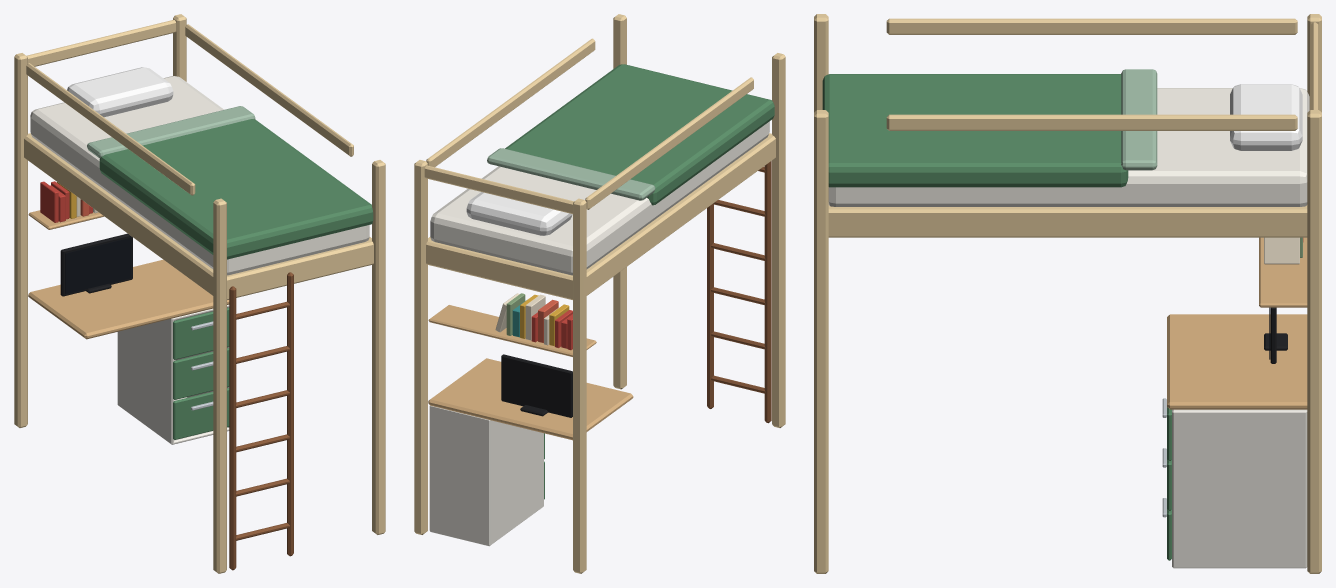
File: desk_bed_combo.glb
3 renders of one model, left to right at view 1: azimuth 30°, elevation 25°; view 2: azimuth 150°, elevation 25°; view 3: azimuth 270°, elevation 25°, orthographic. The views are drawn at different scales.
Parts seen in each view (by area): view 1: desk_bed_combo_Body, desk_bed_combo_Ladder; view 2: desk_bed_combo_Body, desk_bed_combo_Ladder; view 3: desk_bed_combo_Body.
Boxes of the visible parts, left/top/right/bottom form: desk_bed_combo_Body: left=14, top=14, right=385, bottom=573; desk_bed_combo_Ladder: left=229, top=272, right=293, bottom=570; desk_bed_combo_Body: left=414, top=14, right=785, bottom=573; desk_bed_combo_Ladder: left=707, top=161, right=771, bottom=423; desk_bed_combo_Body: left=814, top=14, right=1321, bottom=573.
Bounding box in the file's own units: 1 × 2.1 × 2.1.
